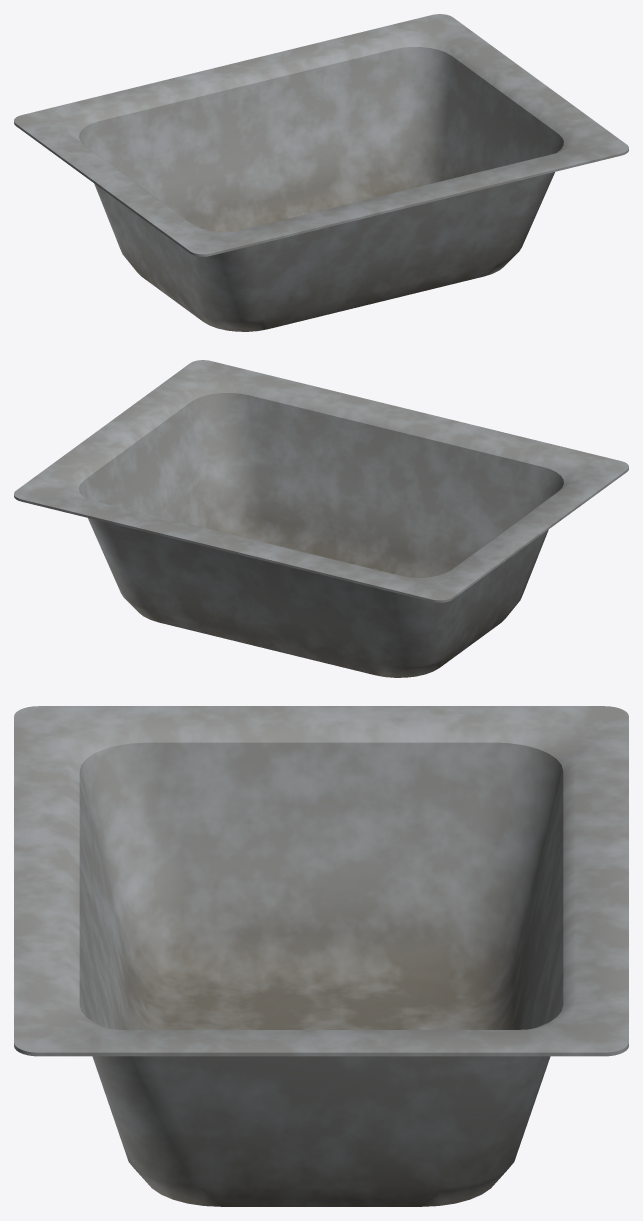
Rendered from pia_cozinha_sujo_realista.glb.
The picture shows the model from 3 angles, top to bottom: view 1: azimuth 30°, elevation 25°; view 2: azimuth 150°, elevation 25°; view 3: azimuth 270°, elevation 25°; orthographic projection. The views are drawn at different scales.
Visible parts, largest first — view 1: Cozinha_Pia_Cuba.001; view 2: Cozinha_Pia_Cuba.001; view 3: Cozinha_Pia_Cuba.001.
Boxes of the visible parts, x1,y1,x2,y2 form: Cozinha_Pia_Cuba.001: (14,14,628,331); Cozinha_Pia_Cuba.001: (14,360,628,677); Cozinha_Pia_Cuba.001: (14,706,628,1206).
Bounding box in the file's own units: 0.6 × 0.177 × 0.45.
Materials: 1 (1 with a texture image).
